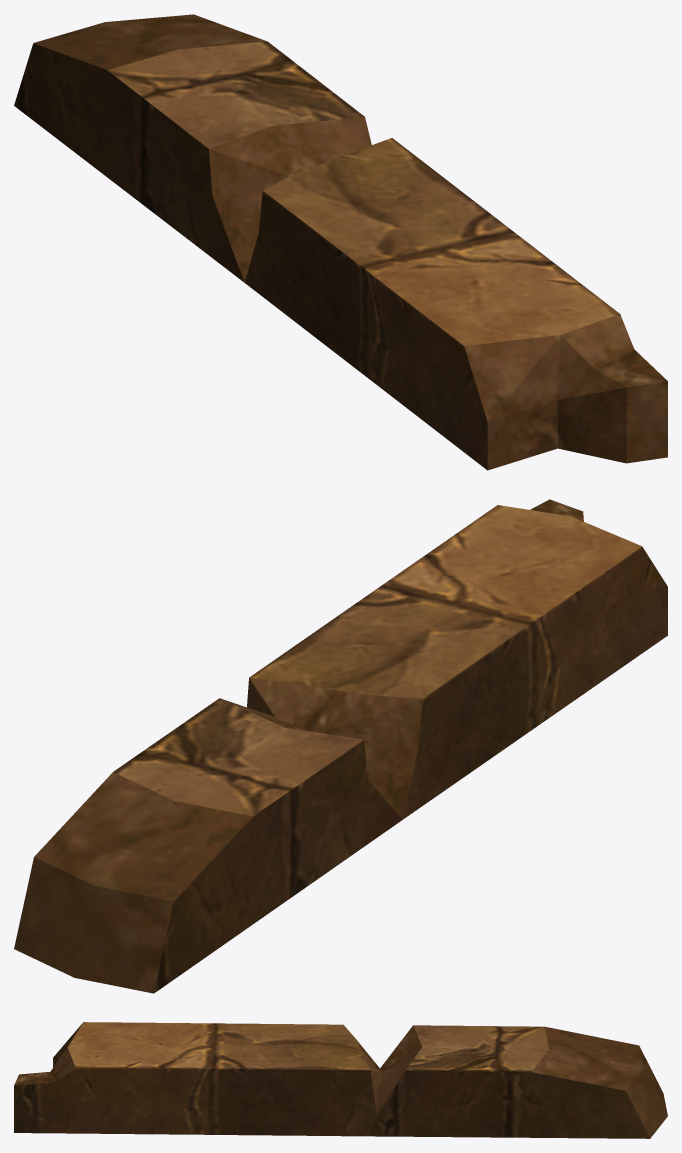
The model's file is Scene_hubian_007.FBX.
3 renders of one model, top to bottom at view 1: azimuth 30°, elevation 25°; view 2: azimuth 150°, elevation 25°; view 3: azimuth 270°, elevation 25°, orthographic. The views are drawn at different scales.
Parts seen in each view (by area): view 1: Scene_hubian_007; view 2: Scene_hubian_007; view 3: Scene_hubian_007.
Part boxes in pixels (x1,y1,x2,y2): Scene_hubian_007: [14, 14, 667, 470]; Scene_hubian_007: [14, 499, 667, 993]; Scene_hubian_007: [14, 1022, 667, 1138].
Size of the model in its own units: 1.09 by 0.6586 by 5.91.
